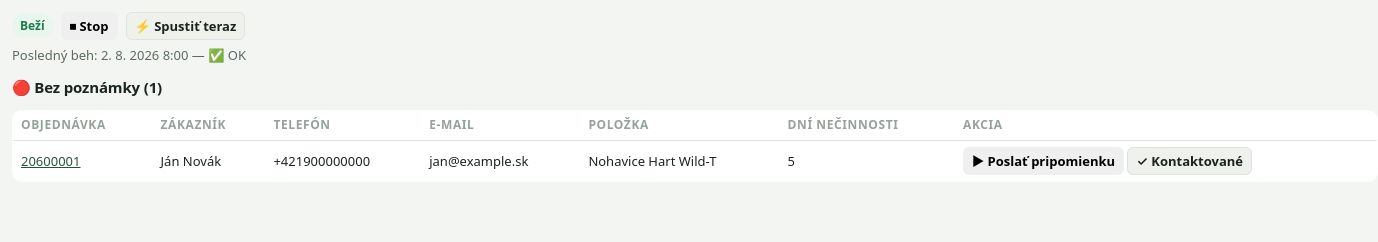
Test: zamietnutá ručná akcia (napr. už odoslaná) zobrazí hlášku zo servera
Click the button "▶ Poslať pripomienku" at x=1044, y=161, box [963,147,1124,175]
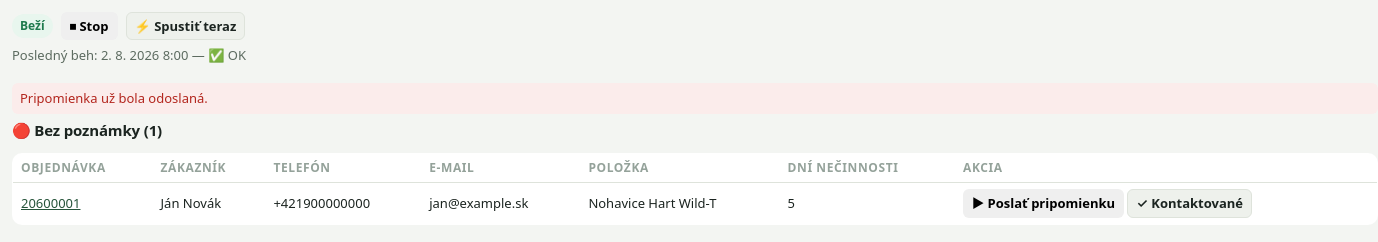
Now the message shows "už bola odoslaná", box [20,89,208,107]
